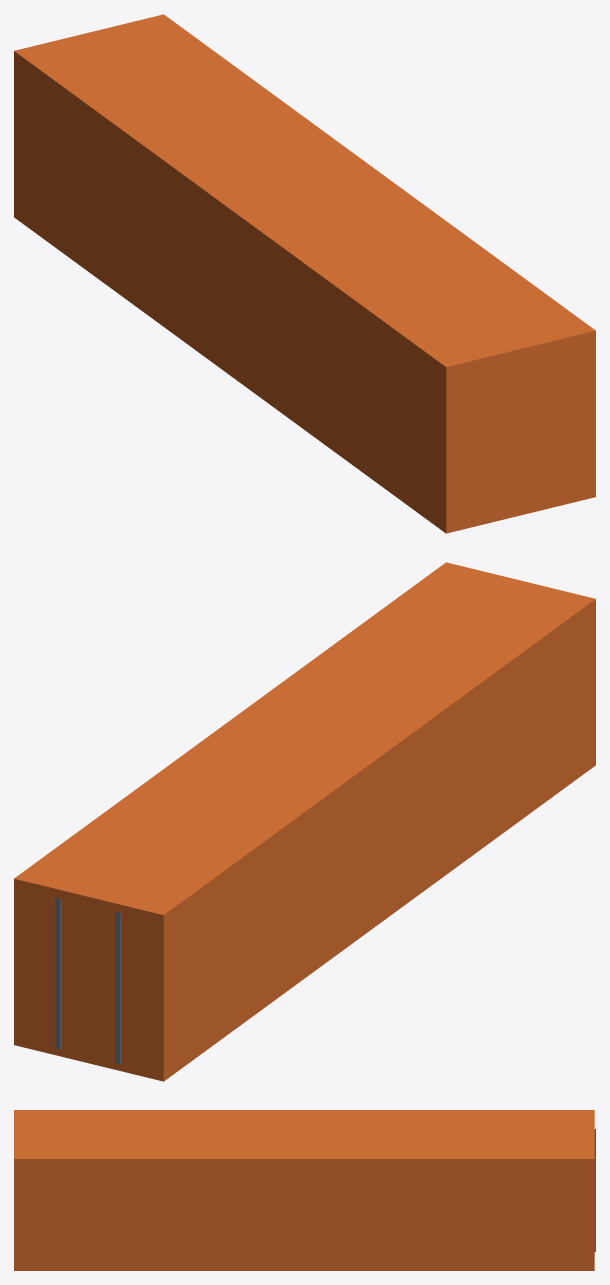
The picture shows the model from 3 angles, top to bottom: view 1: azimuth 30°, elevation 25°; view 2: azimuth 150°, elevation 25°; view 3: azimuth 270°, elevation 25°; orthographic projection. The views are drawn at different scales.
Parts seen in each view (by area): view 1: 416; view 2: 416; view 3: 416.
Part boxes in pixels (x1=…): 416: x1=14, y1=14, x2=595, y2=533; 416: x1=14, y1=562, x2=595, y2=1081; 416: x1=14, y1=1110, x2=595, y2=1270.
Size of the model in its own units: 2.44 by 2.59 by 12.22.
